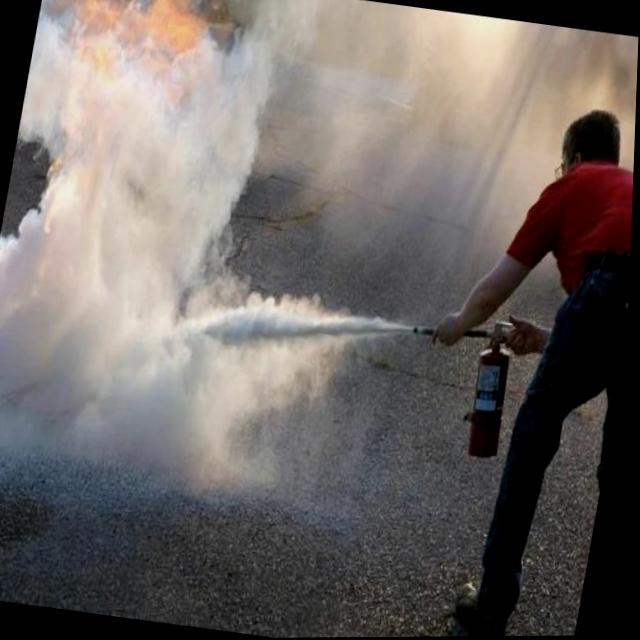FireExtinguisher: (385, 304, 530, 471)
